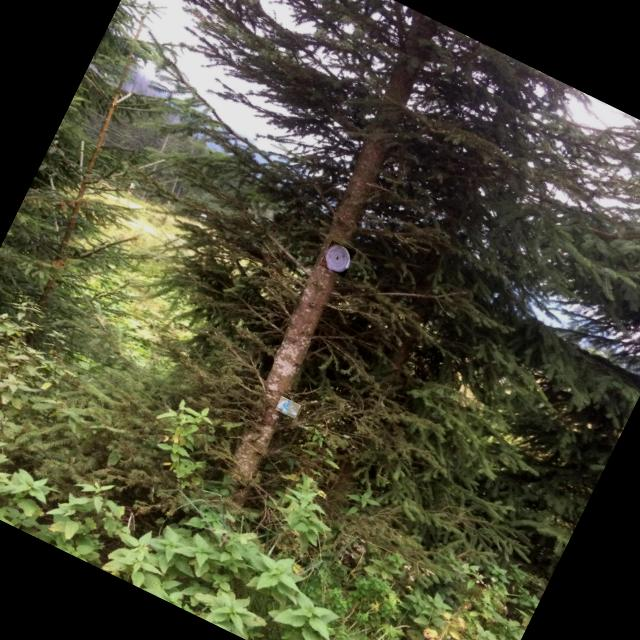Lid: (323, 245, 349, 272)
Unlabeled litter: (276, 401, 295, 416)
